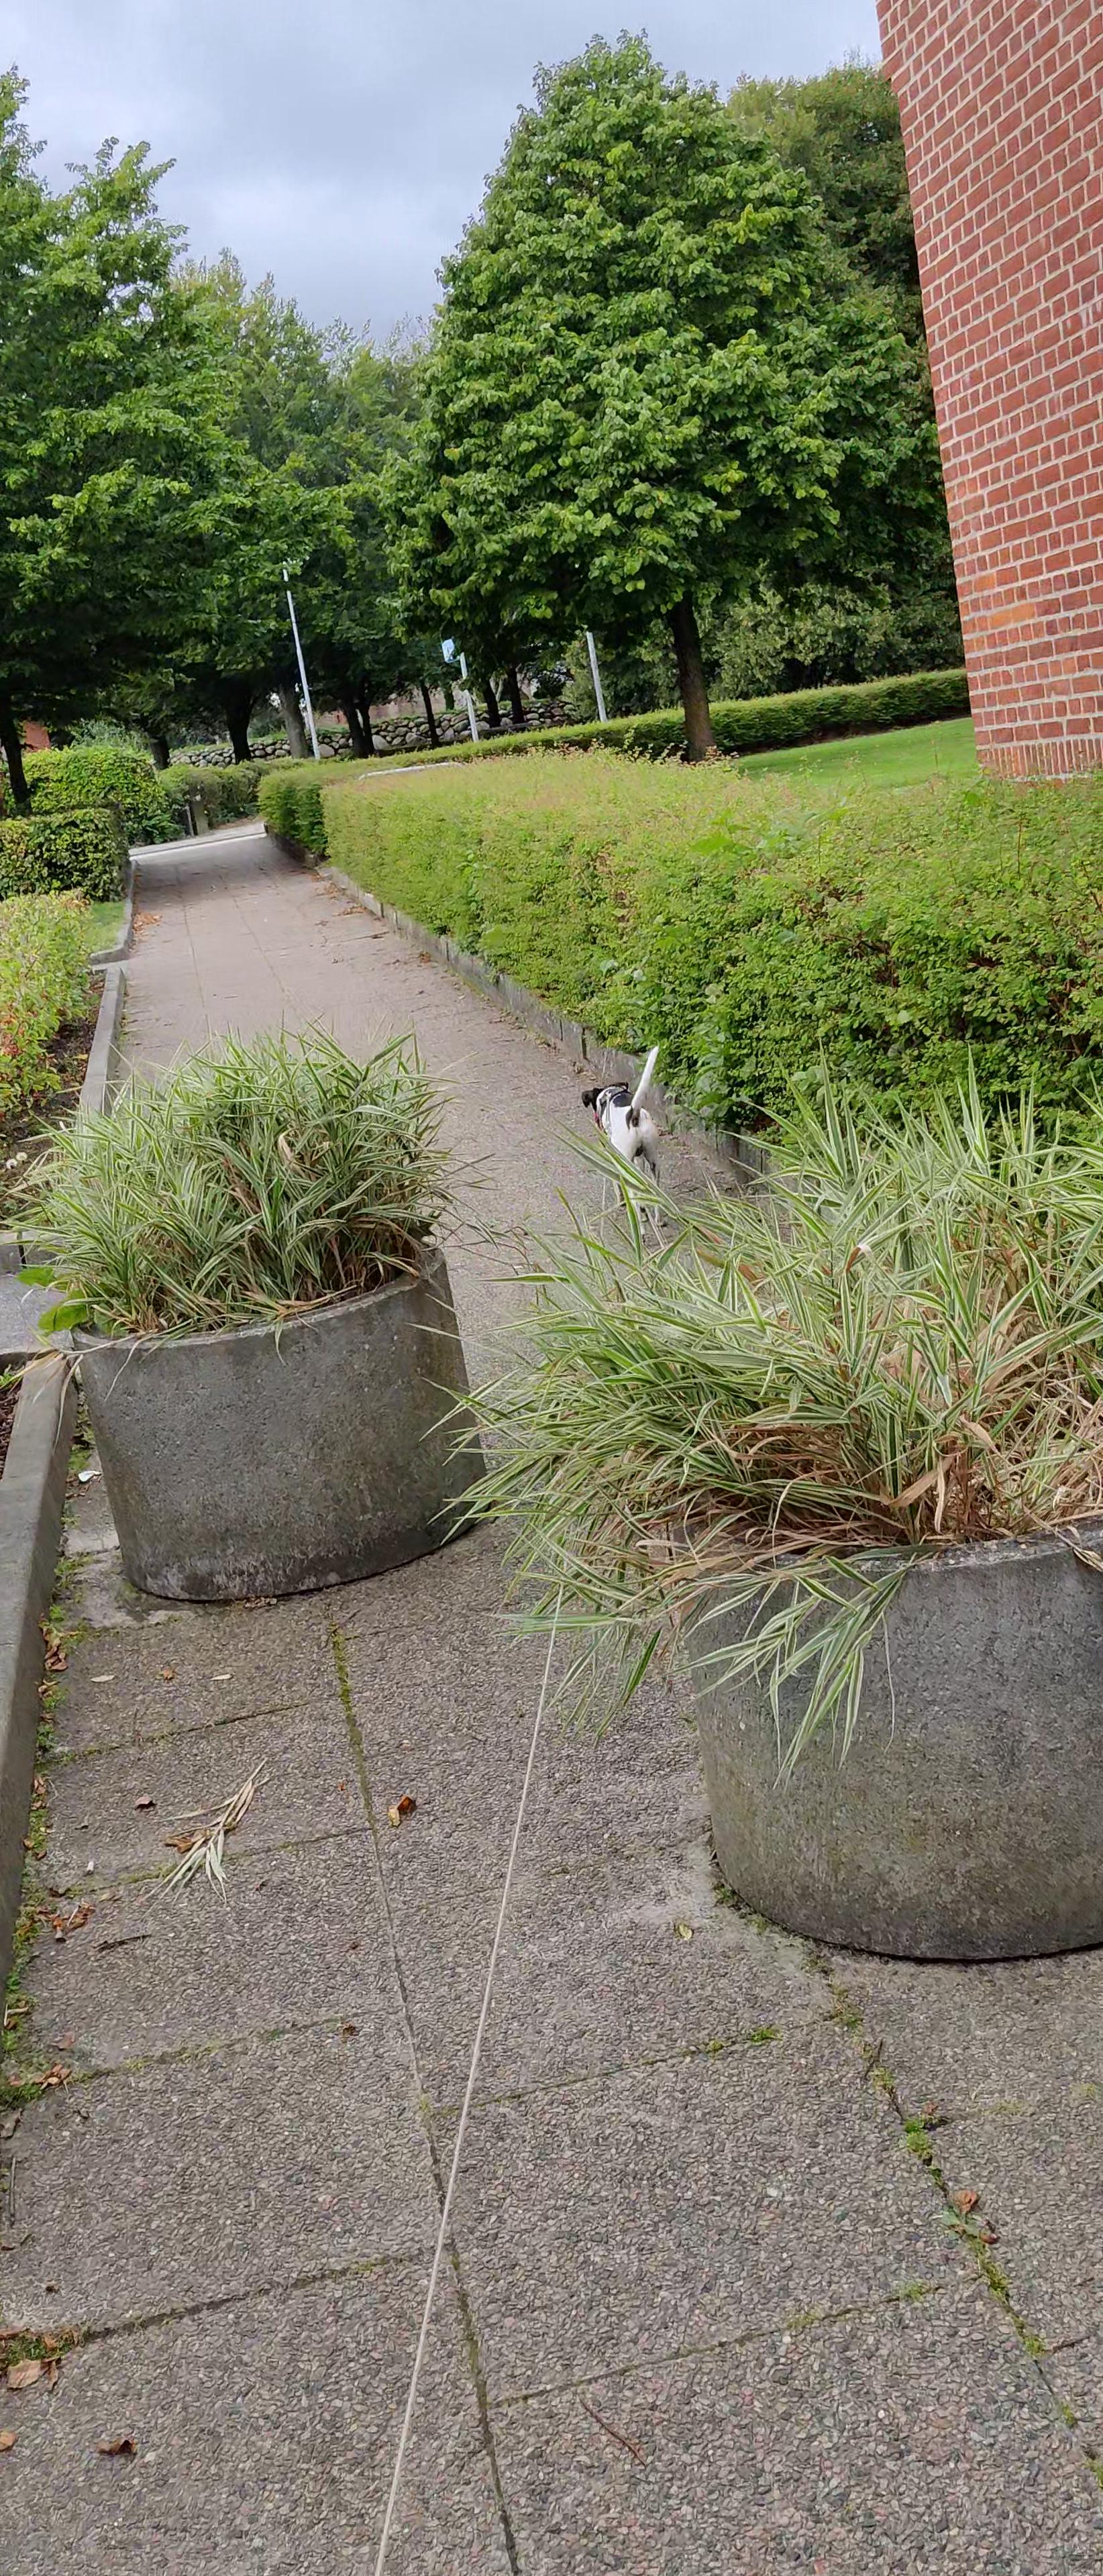Dog: (579, 1043, 681, 1242)
